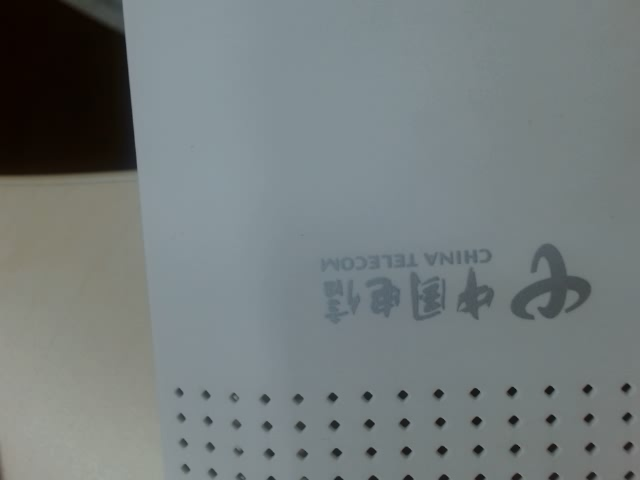AB_ChinaTelecom: (303, 225, 605, 336)
